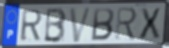B: (43, 7, 68, 44), (90, 7, 116, 42)
R: (114, 6, 138, 42), (20, 9, 44, 43)
V: (68, 6, 93, 44)
X: (138, 7, 162, 41)
